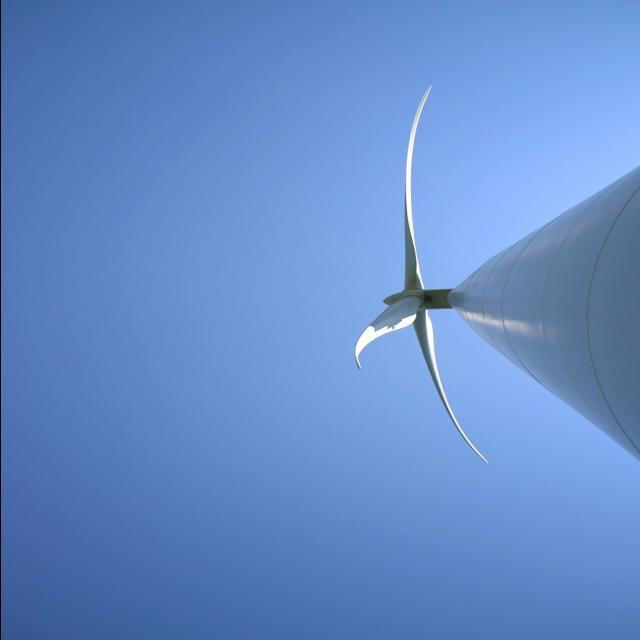blade 1: (380, 39, 430, 279)
blade 2: (350, 306, 410, 418)
blade 3: (422, 366, 496, 470)
